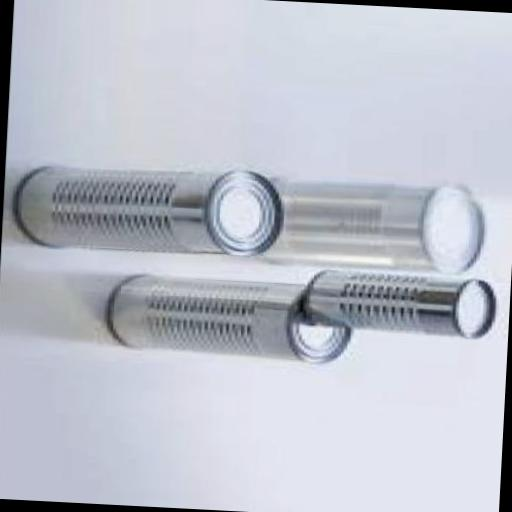metal: (12, 158, 288, 258), (244, 172, 489, 275), (104, 272, 354, 364), (304, 268, 498, 338)
